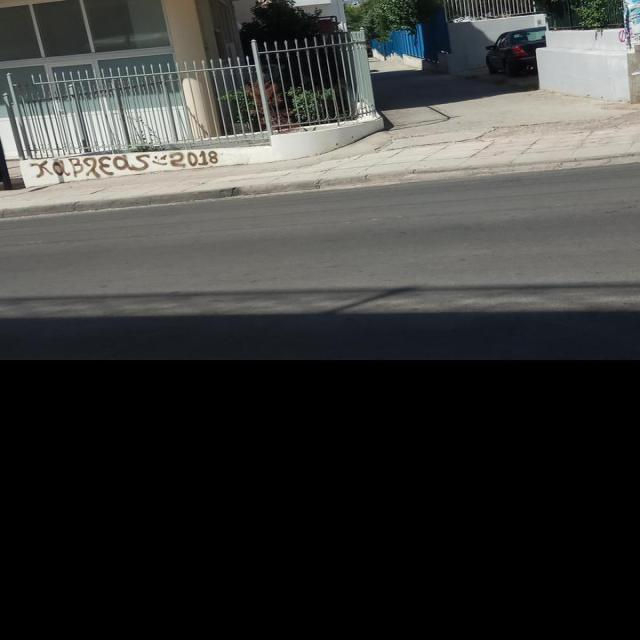nonspitting: (30, 150, 218, 178)
